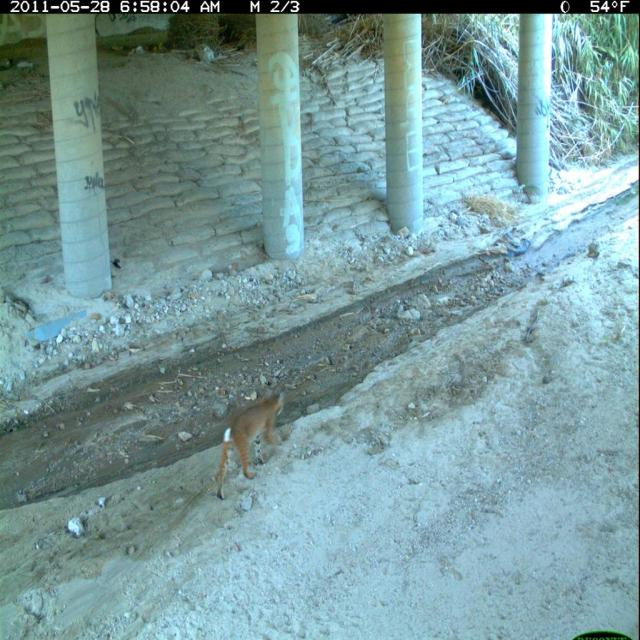bobcat: (215, 385, 289, 506)
